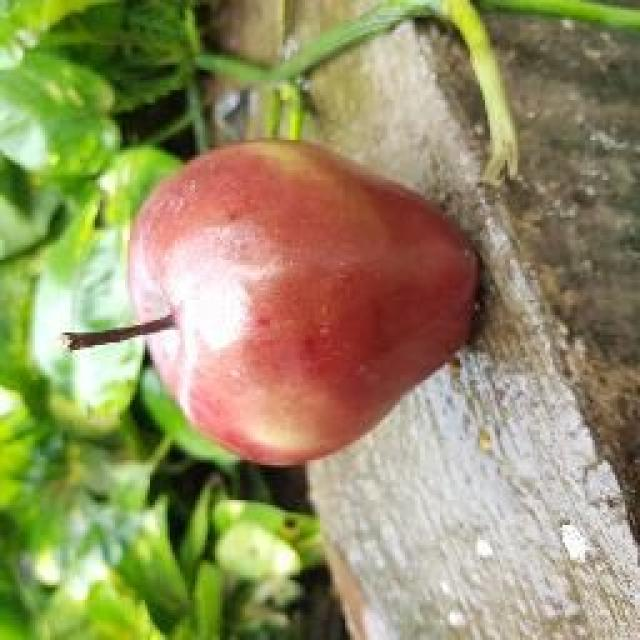Good_Apple: (100, 140, 482, 472)
